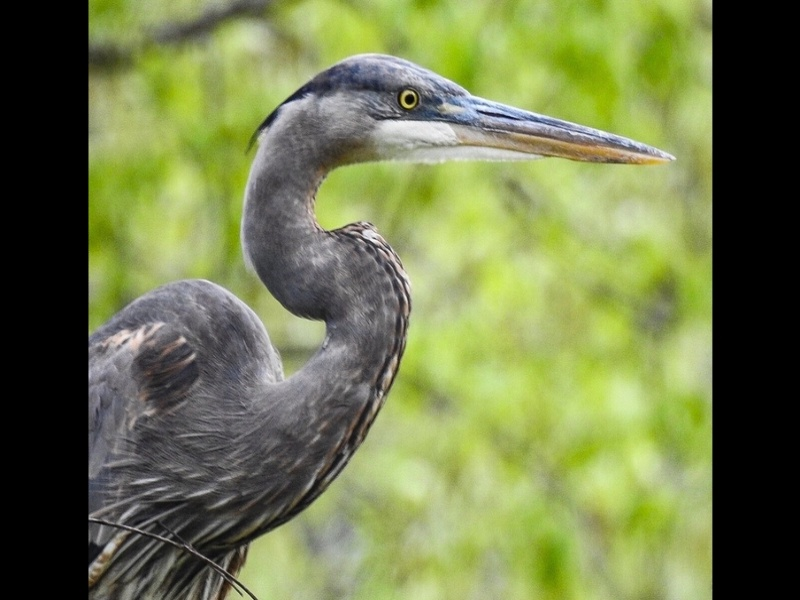heron: (87, 51, 678, 583)
